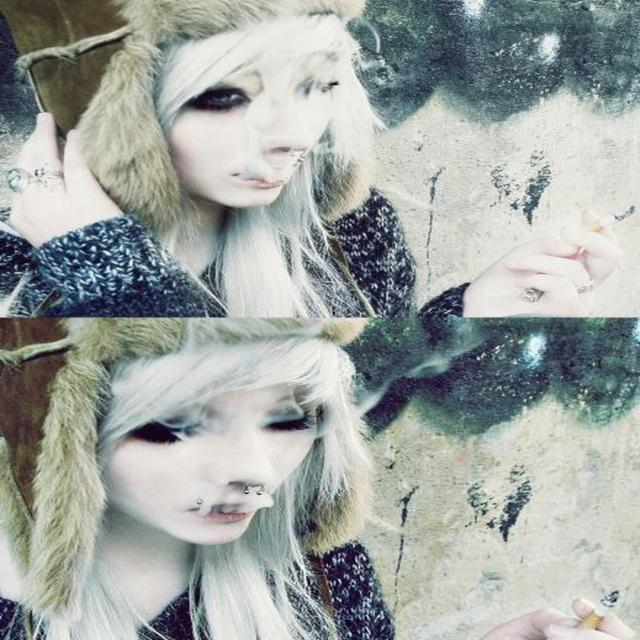smoking: (94, 346, 635, 638), (86, 19, 635, 303)
